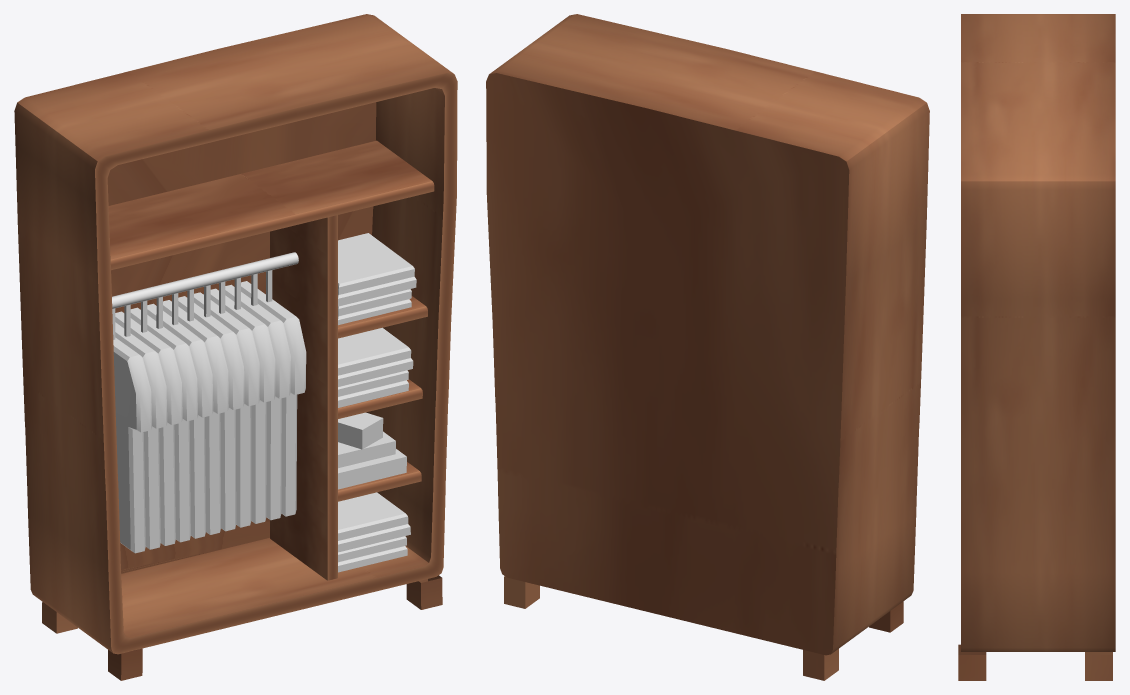
File: wood_trim_schrank_.fbx
The picture shows the model from 3 angles, left to right: view 1: azimuth 30°, elevation 25°; view 2: azimuth 150°, elevation 25°; view 3: azimuth 270°, elevation 25°; orthographic projection. The views are drawn at different scales.
Parts seen in each view (by area): view 1: 1, 1.003, 1.004; view 2: 1; view 3: 1.
Boxes of the visible parts, x1,y1,x2,y2 form: 1: (14,14,457,680); 1.003: (113,233,416,572); 1.004: (112,252,298,339); 1: (486,14,929,680); 1: (958,14,1115,680).
Size of the model in its own units: 208 by 291 by 81.26.
